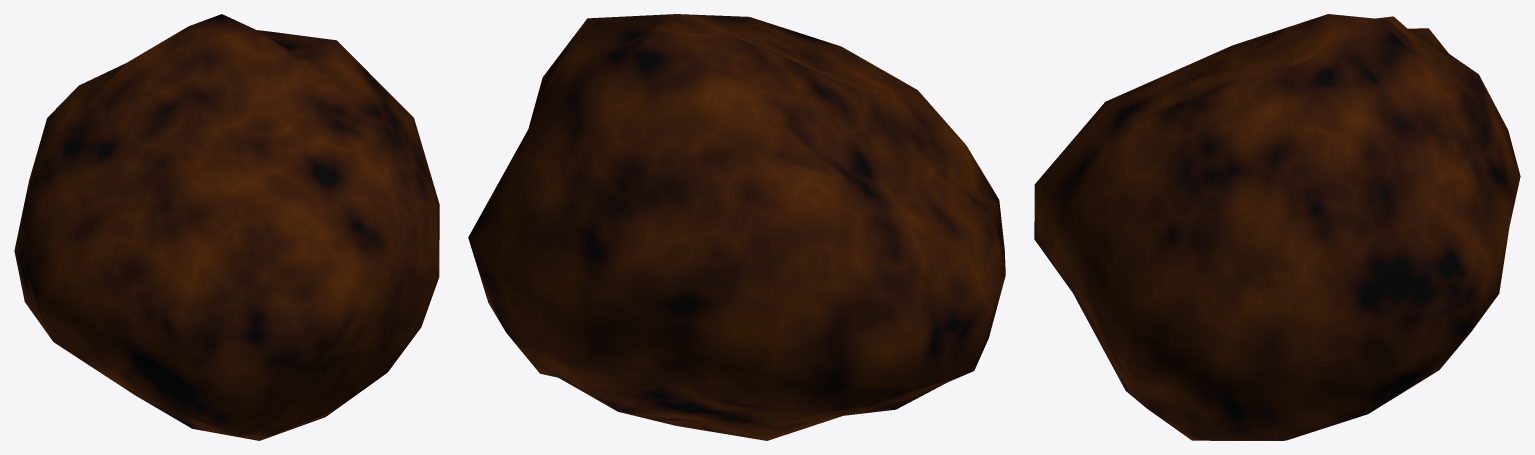
Rendered from meteor.gltf.
The picture shows the model from 3 angles, left to right: view 1: azimuth 30°, elevation 25°; view 2: azimuth 150°, elevation 25°; view 3: azimuth 270°, elevation 25°; orthographic projection. The views are drawn at different scales.
Parts seen in each view (by area): view 1: Cube; view 2: Cube; view 3: Cube.
Part boxes in pixels (left/top/right/bottom): Cube: left=14, top=14, right=439, bottom=440; Cube: left=468, top=14, right=1005, bottom=440; Cube: left=1034, top=14, right=1520, bottom=440.
Bounding box in the file's own units: 3.43 × 3.07 × 3.38.
1 material, 1 textured.
